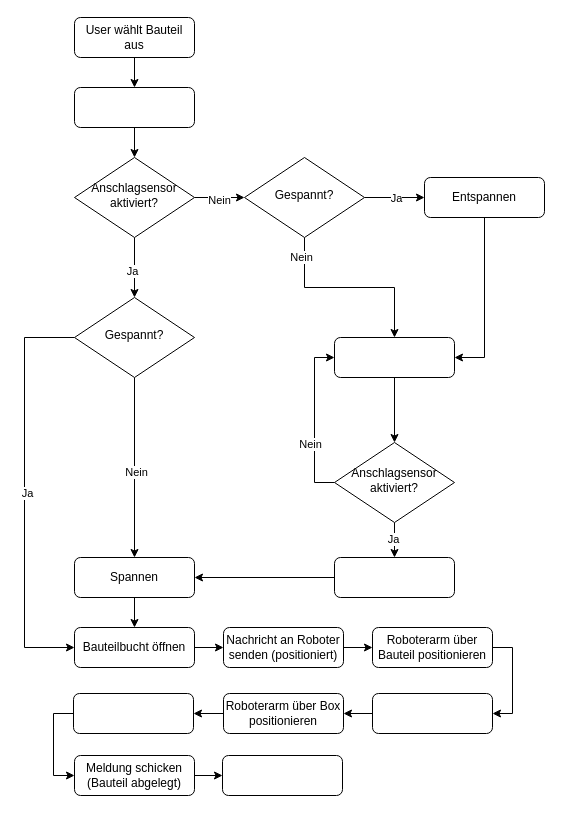
The diagram is 562 pixels wide and 813 high, and some of its shapes have lost their labels. The shapes that lost their labels are listed below. From the top down, each one's centre as x and y in pixels, then its label:
the point at 134,107: Eingabe sperren
the point at 394,357: Förderband aktivieren
the point at 394,577: Förderband deaktivieren
the point at 133,713: Sauger deaktivieren
the point at 432,713: Sauger aktivieren u. Bauteil anheben
the point at 282,775: Eingabe freigeben
